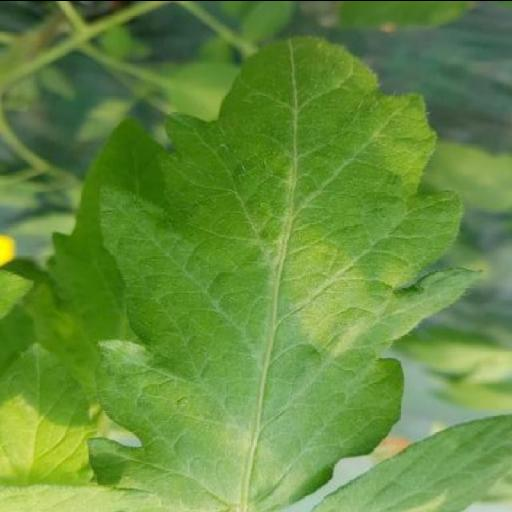Healthy: (87, 34, 465, 512)
